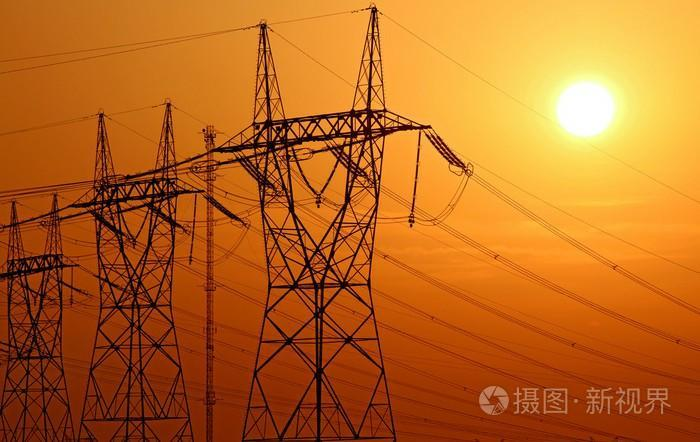power_tower: (215, 3, 459, 438), (77, 86, 195, 441), (0, 182, 76, 442)
